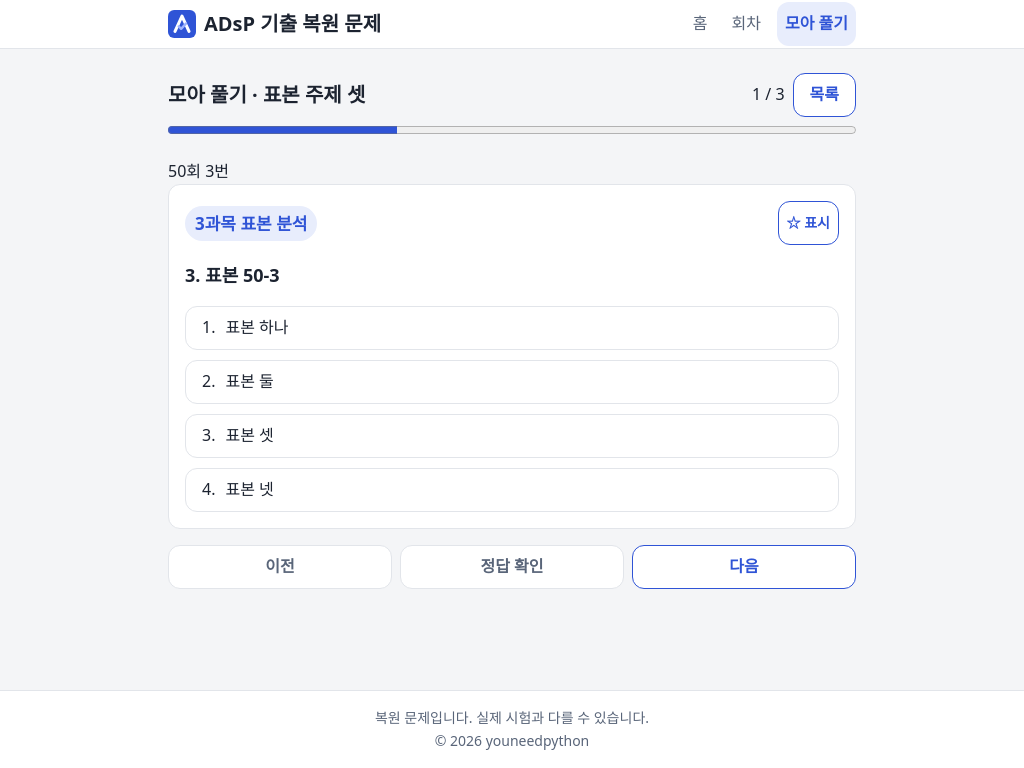
Test: topic practice title and order use all matching questions
The image size is (1024, 768).
Expected: the heading "모아 풀기 · 표본 주제 셋" is shown, [168,81,365,108]
Expected: the text "1 / 3" is shown, [752,82,785,108]
Click the button "다음": coordinates (744, 567) [632,545,856,589]
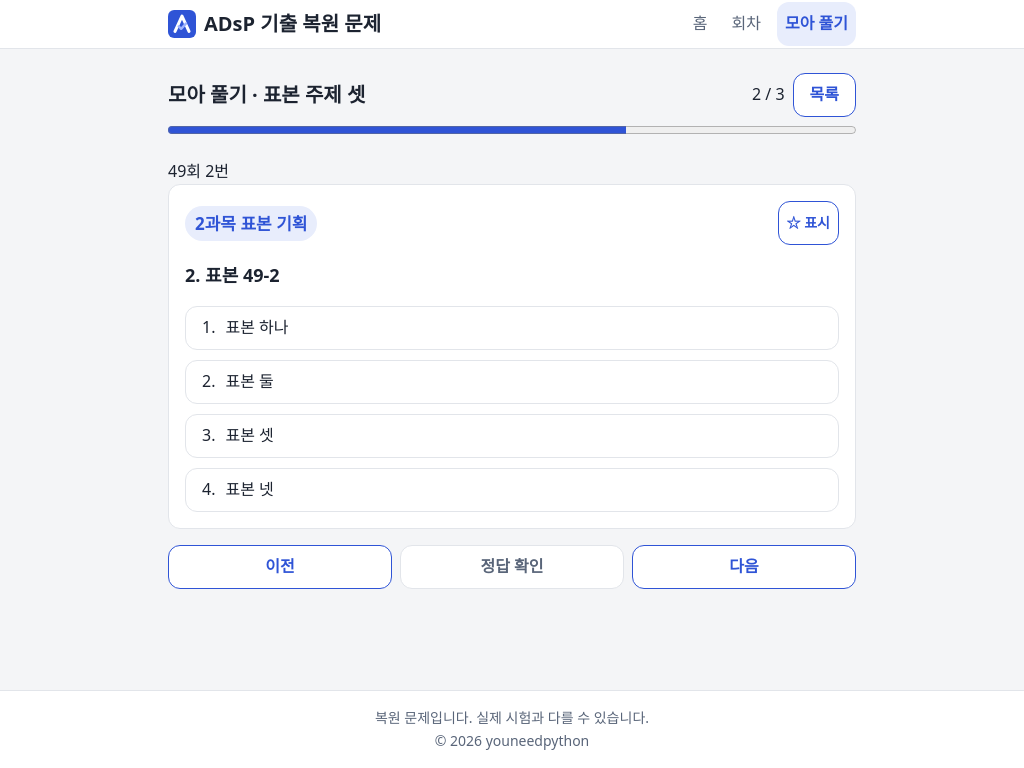
Expected: the text "49회 2번" is shown, [168,160,229,182]
